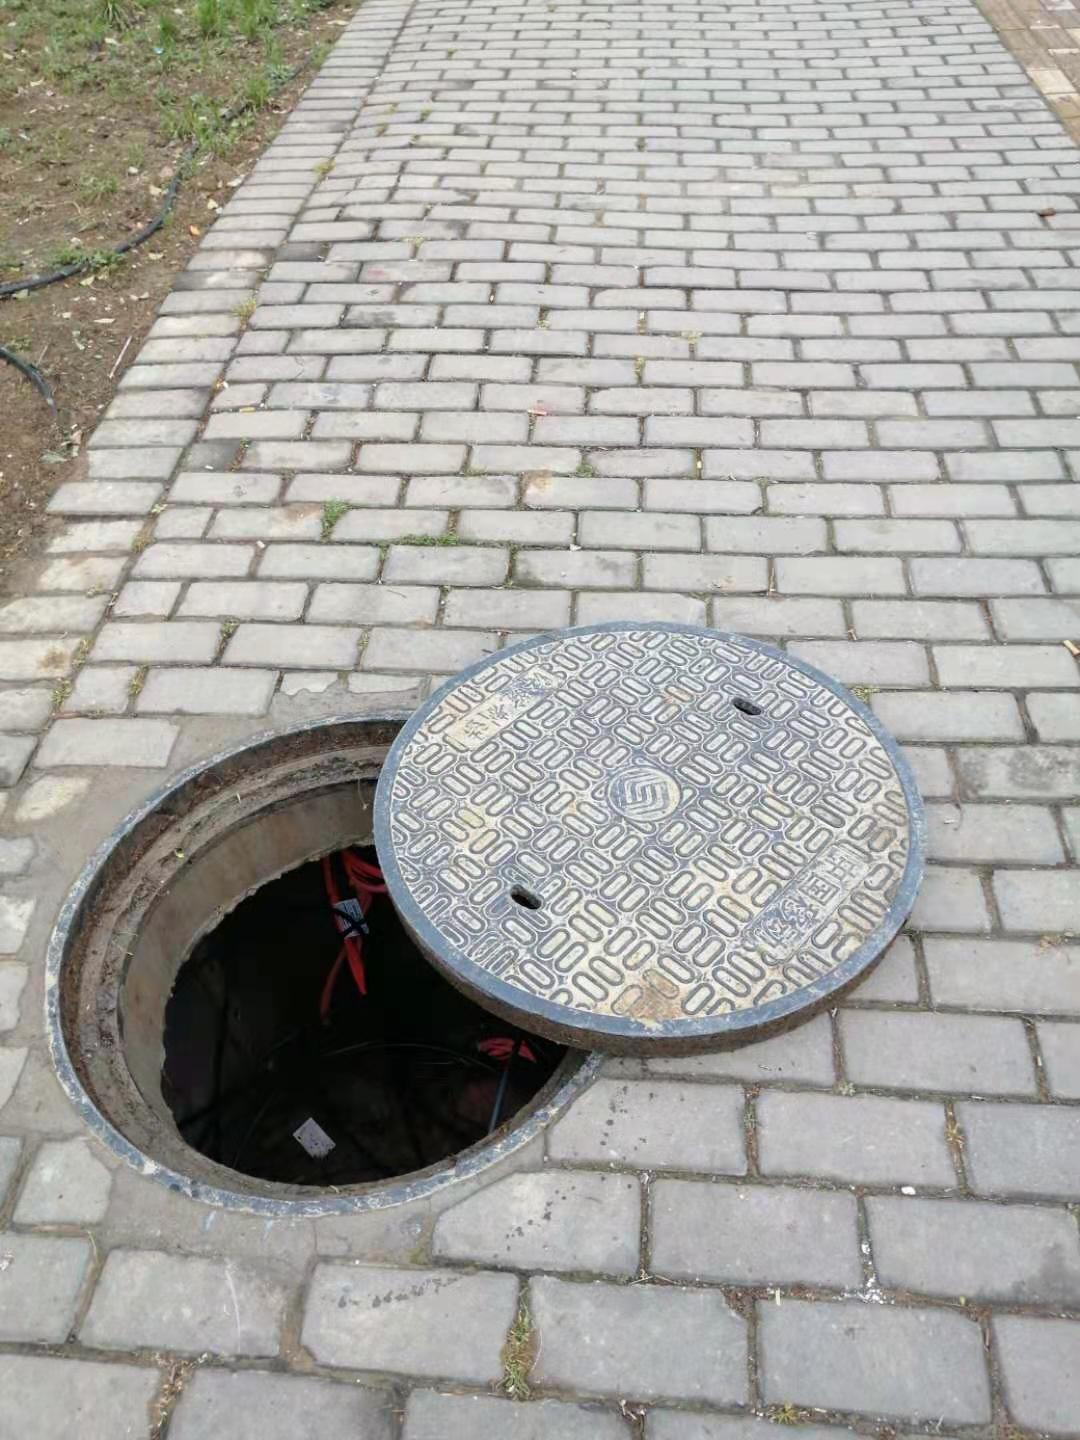wellcover: (78, 618, 917, 1184)
